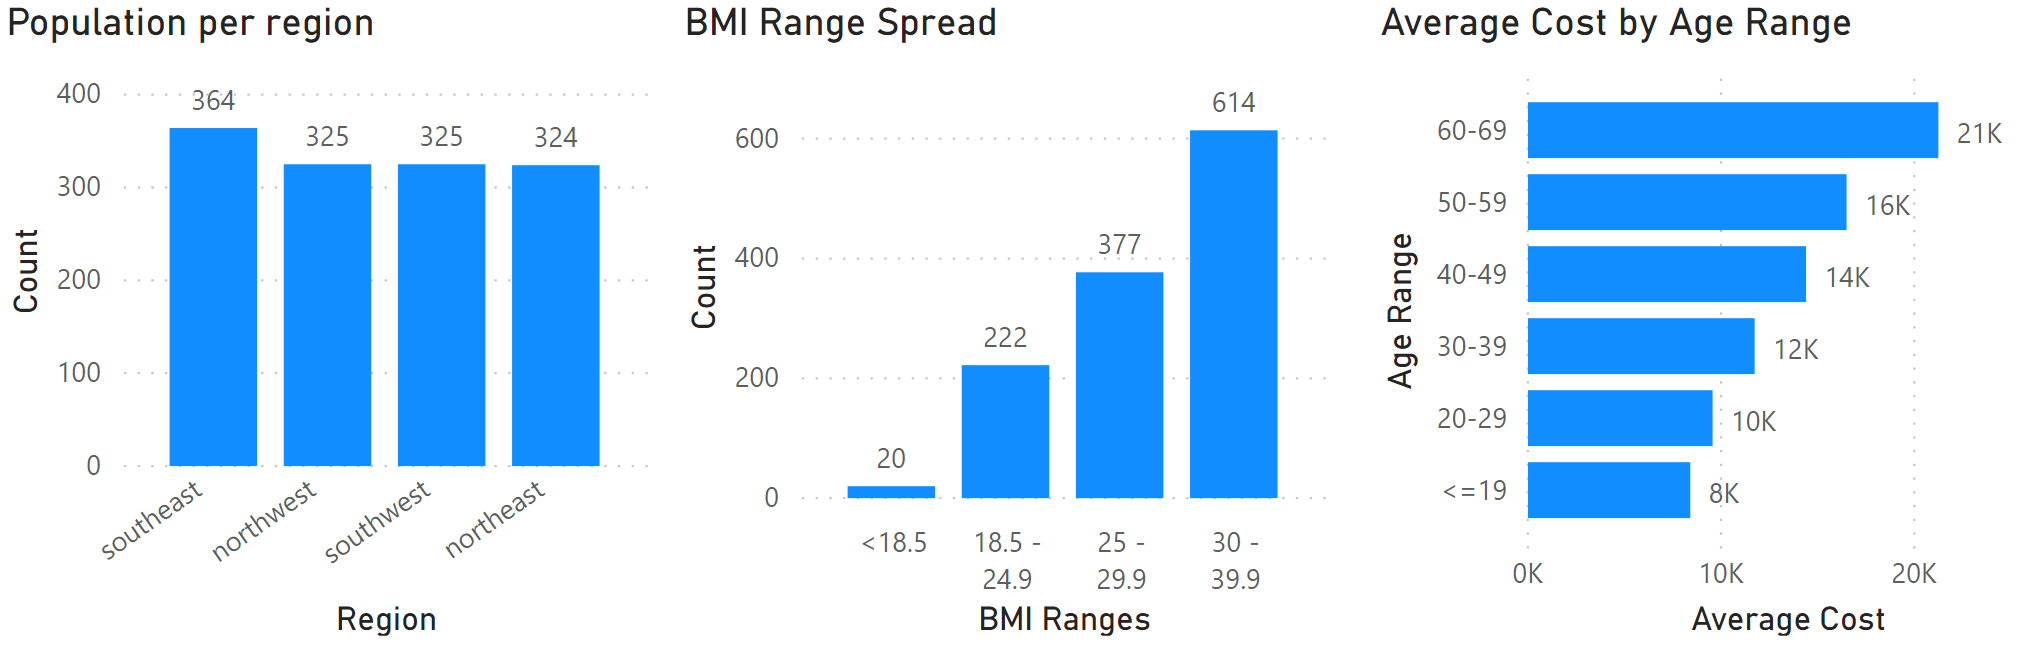

What the dashboard file says about the page in this screenshot:
{"tool":"powerbi","page":{"name":"Page 1","canvas":[1280,720],"ordinal":0},"visuals":[{"type":"clusteredColumnChart","title":"Population per region","fields":{"Y":["Sum(regioncount.count)"],"Category":["regioncount.region"]},"box":[7.9,16.6,290.6,282.7],"z":0},{"type":"clusteredColumnChart","title":"BMI Range Spread","fields":{"Category":["bmirange.BMI Ranges"],"Y":["Sum(bmirange.Count)"]},"box":[303.6,16.6,290.6,282.7],"z":1000},{"type":"clusteredBarChart","fields":{"Category":["agecost.Age Range"],"Y":["Sum(agecost.Average Cost)"]},"box":[607.2,16.6,311.5,282.7],"z":2000}]}

Visuals, with their boxes on the page's 1280x720 design canvas (x1, y1, x2, y2). These are canvas units, not pixel positions in the 2020x649 screenshot, which may show the page scaled, cropped or inside an application window:
"Population per region" clusteredColumnChart: BBox(8, 17, 298, 299)
"BMI Range Spread" clusteredColumnChart: BBox(304, 17, 594, 299)
clusteredBarChart - agecost.Age Range x Sum(agecost.Average Cost): BBox(607, 17, 919, 299)
